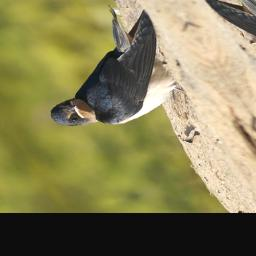Swallow: (0, 0, 210, 139)
